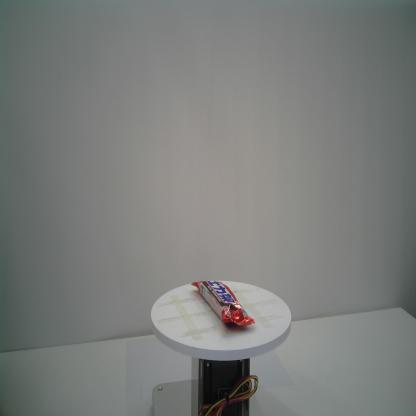Chocolate: (190, 278, 257, 330)
